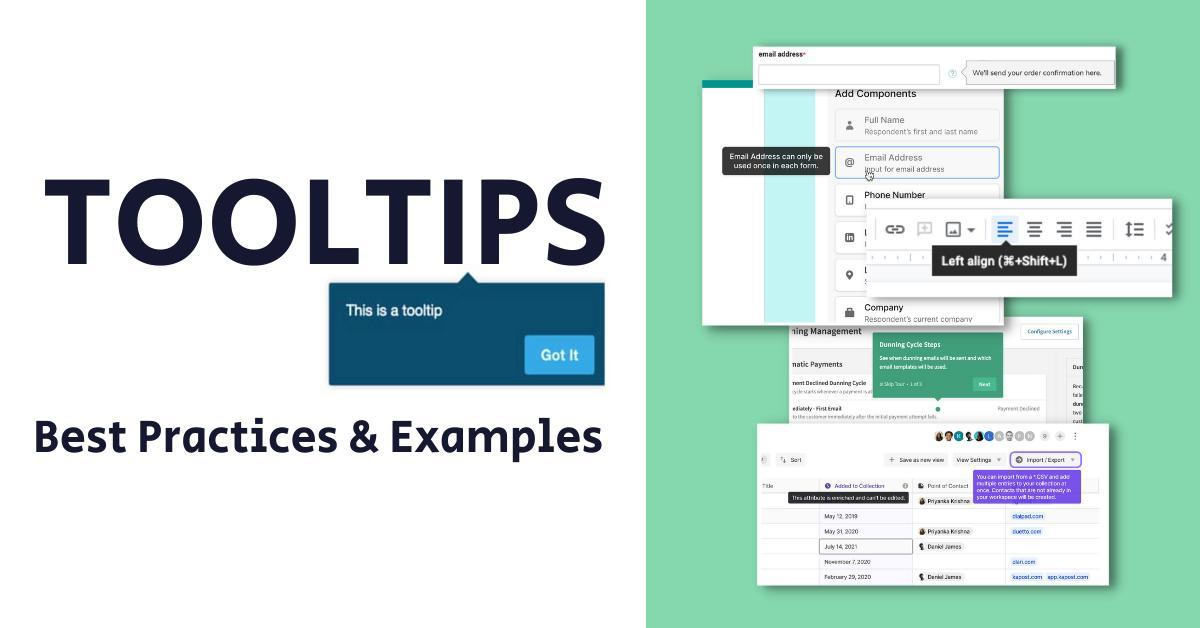button: (525, 334, 597, 378)
label: (348, 302, 446, 320)
